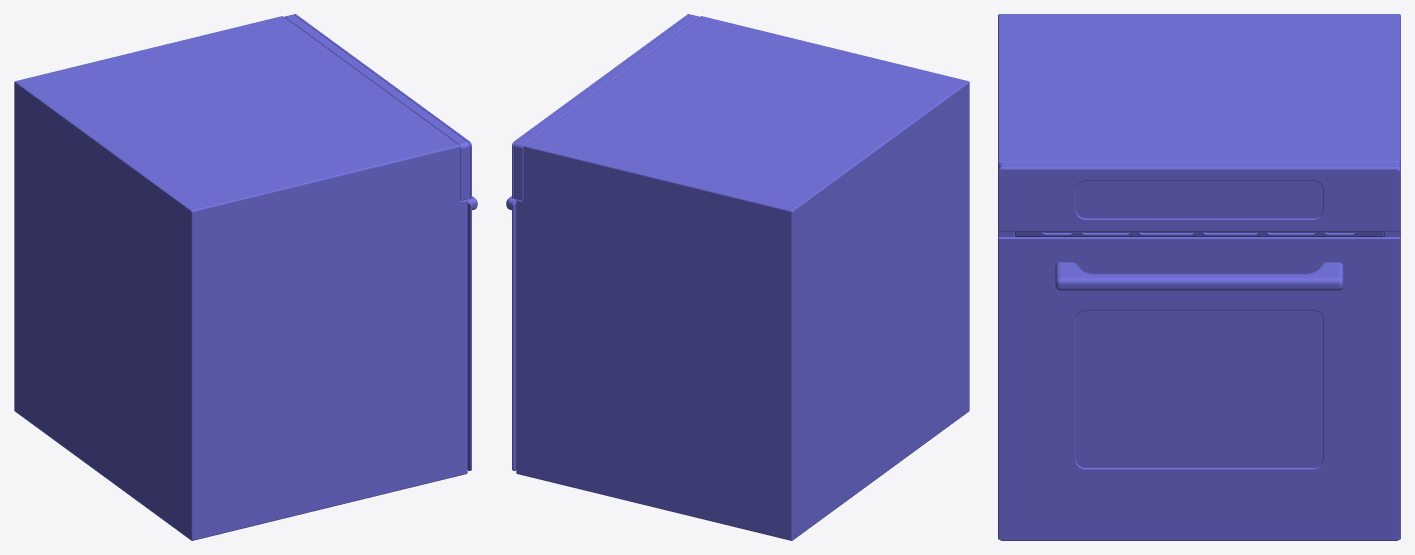
3 views of the same model, side by side, from view 1: azimuth 30°, elevation 25°; view 2: azimuth 150°, elevation 25°; view 3: azimuth 270°, elevation 25° (orthographic). The views are drawn at different scales.
Visible parts, largest first — view 1: visual_part_000_0_0, visual_part_004_0_0; view 2: visual_part_000_0_0, visual_part_004_0_0; view 3: visual_part_000_0_0, visual_part_004_0_0, visual_part_003_0_0, visual_part_002_0_0.
Boxes of the visible parts, x1=… form: visual_part_000_0_0: x1=14, y1=14, x2=471, y2=540; visual_part_004_0_0: x1=467, y1=201, x2=471, y2=470; visual_part_000_0_0: x1=512, y1=14, x2=969, y2=540; visual_part_004_0_0: x1=512, y1=201, x2=516, y2=470; visual_part_000_0_0: x1=998, y1=14, x2=1400, y2=539; visual_part_004_0_0: x1=998, y1=237, x2=1400, y2=540; visual_part_003_0_0: x1=1076, y1=310, x2=1322, y2=467; visual_part_002_0_0: x1=1055, y1=262, x2=1343, y2=290.
Size of the model in its own units: 0.5865 by 0.592 by 0.5778.
Materials: 1 (1 with a texture image).
